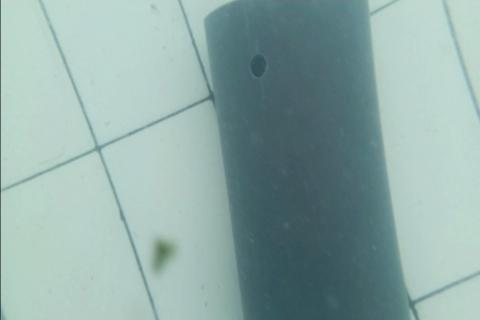kebocoran: (248, 51, 267, 79)
